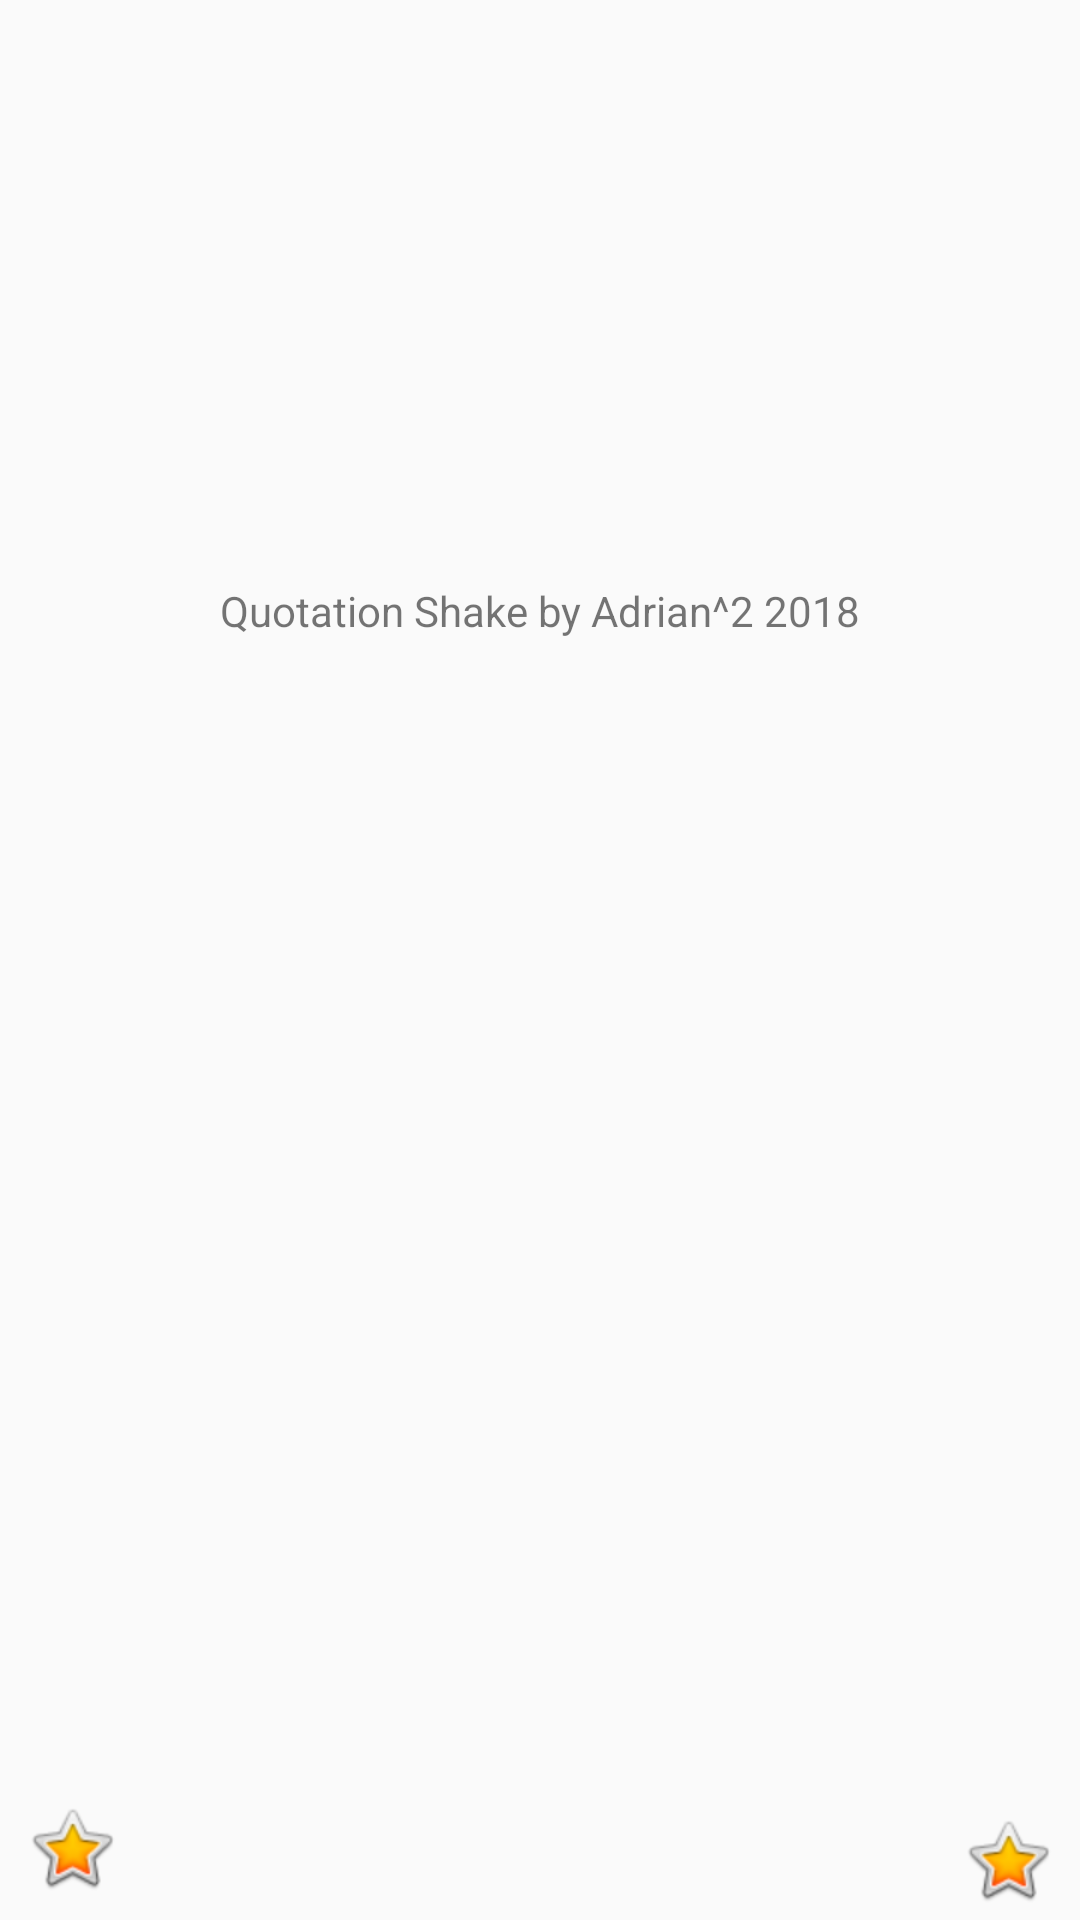

Named icons in this screenshot (1080x1920) and their centers, point (x, y):
star on: point (73, 1849), point (1009, 1861)
